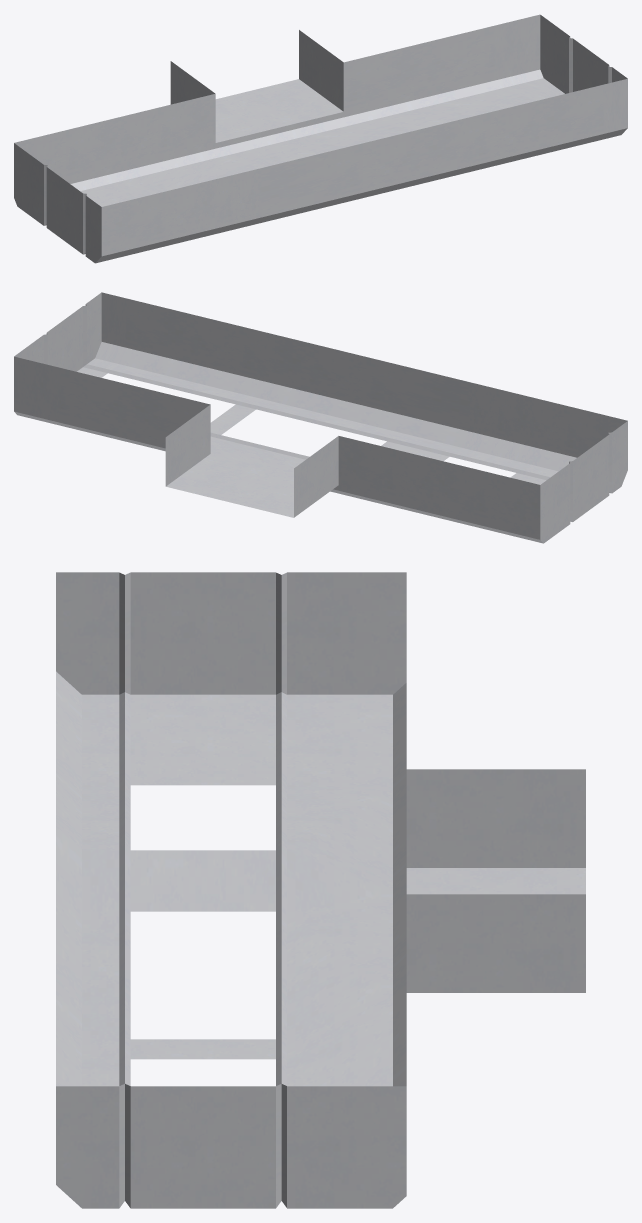
File: SM_Steckdosenbox_05.obj
The picture shows the model from 3 angles, top to bottom: view 1: azimuth 30°, elevation 25°; view 2: azimuth 150°, elevation 25°; view 3: azimuth 270°, elevation 25°; orthographic projection. The views are drawn at different scales.
Visible parts, largest first — view 1: SM_Steckdosenbox_05; view 2: SM_Steckdosenbox_05; view 3: SM_Steckdosenbox_05.
Part boxes in pixels (x1,y1,x2,y2): SM_Steckdosenbox_05: (14,14,627,263); SM_Steckdosenbox_05: (14,292,627,543); SM_Steckdosenbox_05: (56,572,585,1208).
Size of the model in its own units: 0.5669 by 0.063 by 0.2472.
Materials: 1 (1 with a texture image).
